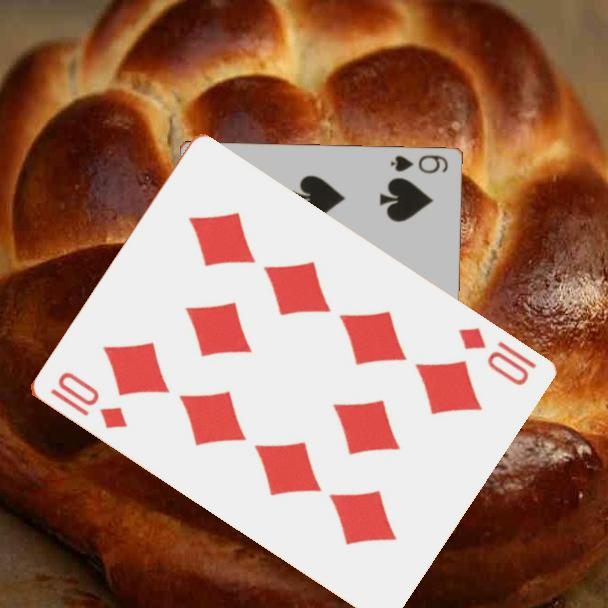d10: (453, 324, 539, 389), (46, 368, 130, 432)
s06: (387, 151, 451, 176)
